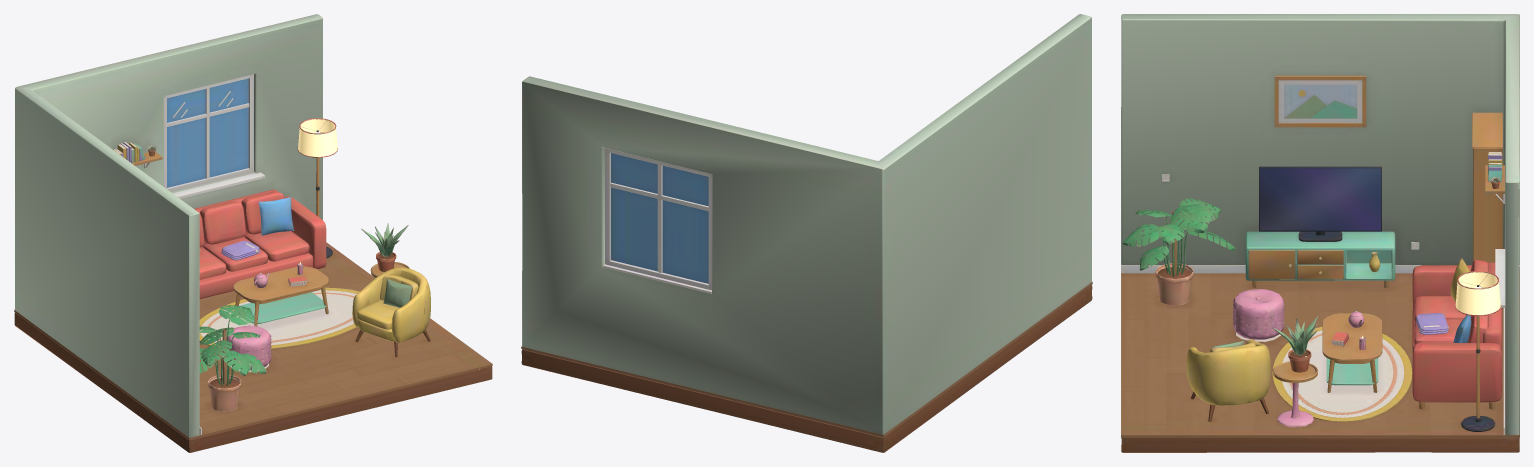
Rendered from living-room-light.glb.
3 views of the same model, side by side, from view 1: azimuth 30°, elevation 25°; view 2: azimuth 150°, elevation 25°; view 3: azimuth 270°, elevation 25° (orthographic). The views are drawn at different scales.
Visible parts, largest first — view 1: living-room_body, living-room_floor_lamp_glow; view 2: living-room_body; view 3: living-room_body, living-room_tv_glow, living-room_floor_lamp_glow.
Part boxes in pixels (<box>): living-room_body: <box>14,14,492,452</box>; living-room_floor_lamp_glow: <box>298,119,337,156</box>; living-room_body: <box>521,14,1092,452</box>; living-room_body: <box>1121,14,1519,452</box>; living-room_tv_glow: <box>1260,168,1380,230</box>; living-room_floor_lamp_glow: <box>1455,272,1500,314</box>.
Bounding box in the file's own units: 4 × 3 × 4.
5 materials, 2 textured.
